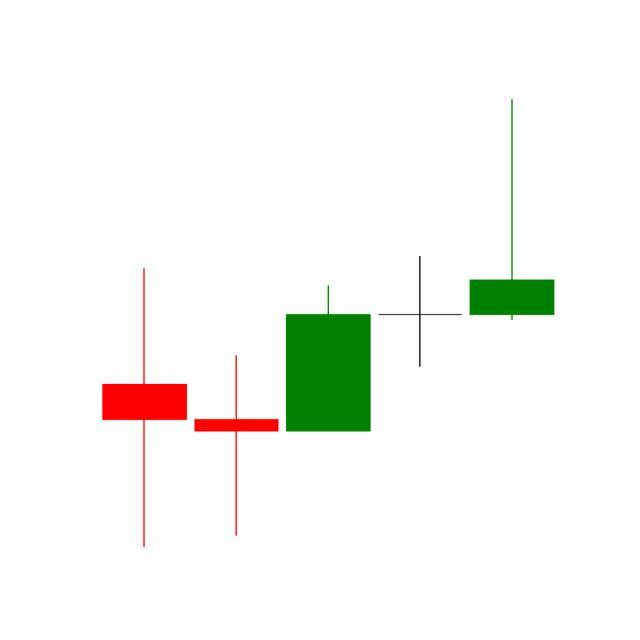Spinning Top: (374, 256, 468, 370)
